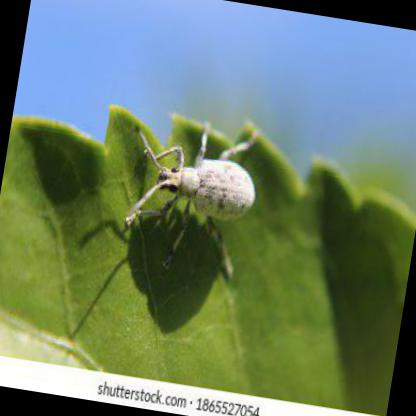ash weevil: (138, 126, 254, 220)
